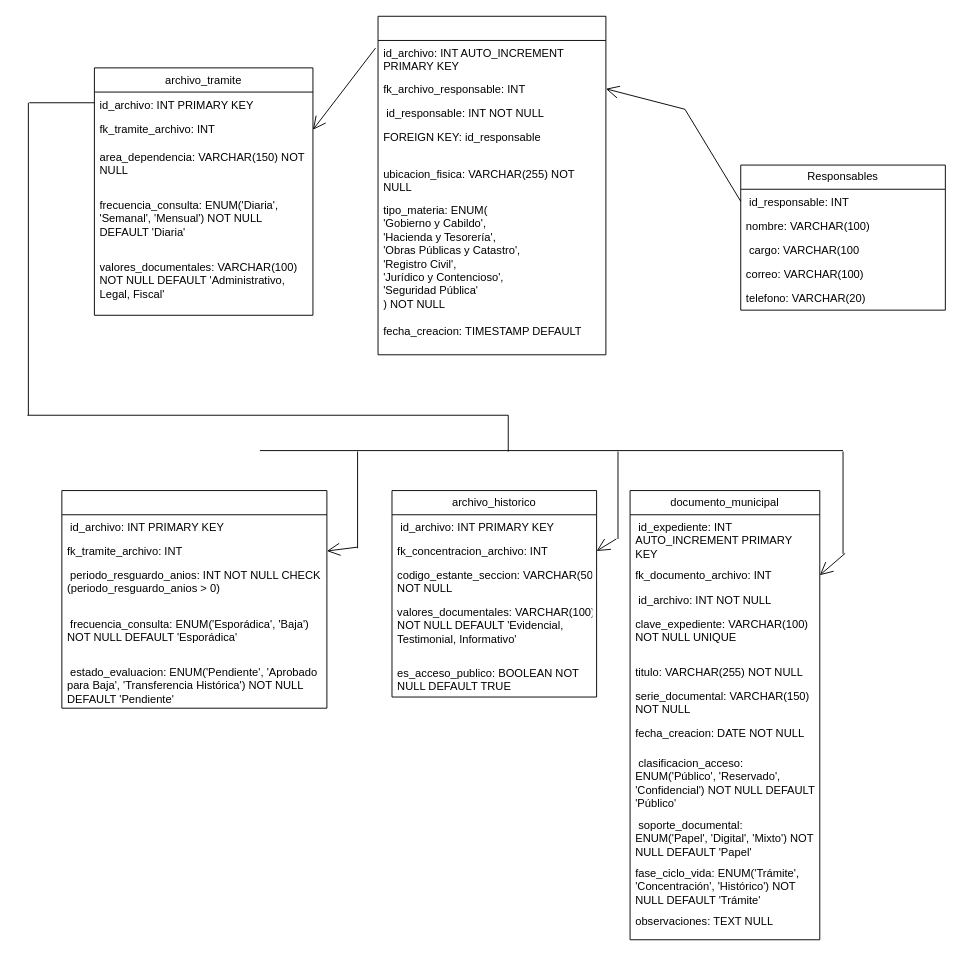
Some shapes in this 962 by 959 pixel diagram are drawn without their labels. Each missing label, with the box of its shape:
archivo_concentracion: (61, 490, 327, 708)
ArchivoMunicipal: (377, 15, 606, 355)
